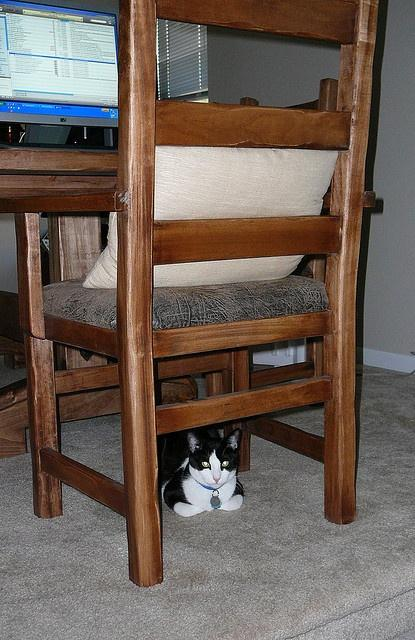AIO PC-Monitor-TV: (0, 0, 118, 149)
Kursi: (0, 0, 379, 588)
